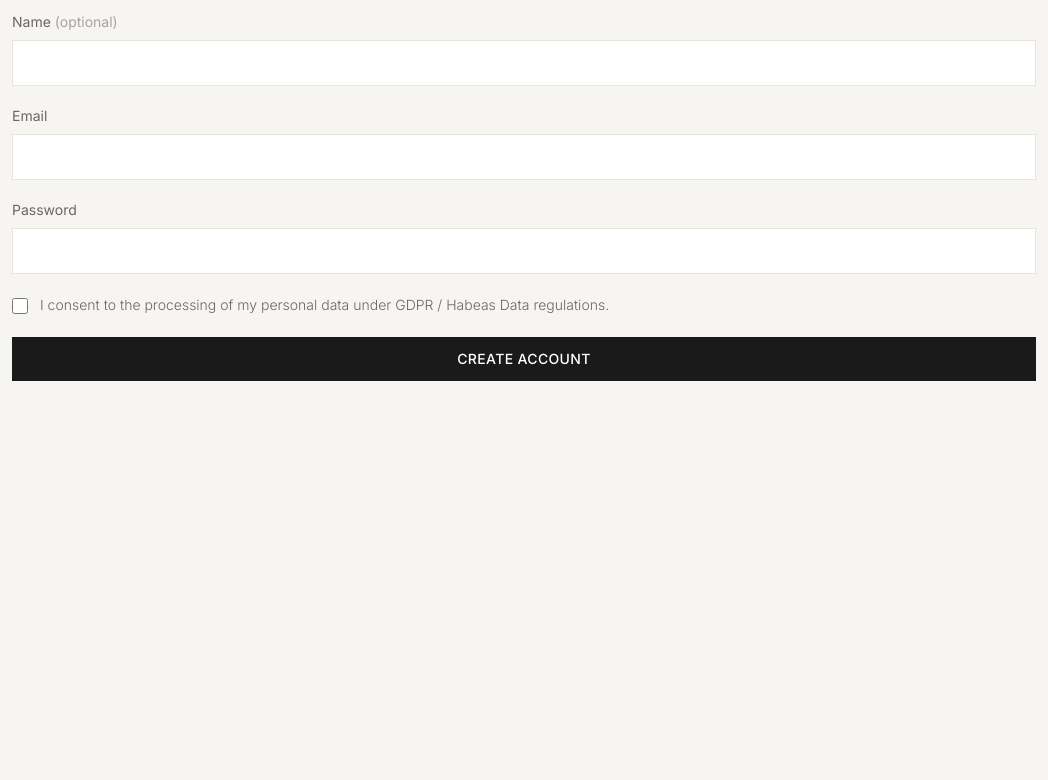
Test: EmailRegisterForm › submits valid registration
In the field labelled "Email": (524, 157) x1=12 y1=134 x2=1036 y2=180, type "user@chicmatrix.app"
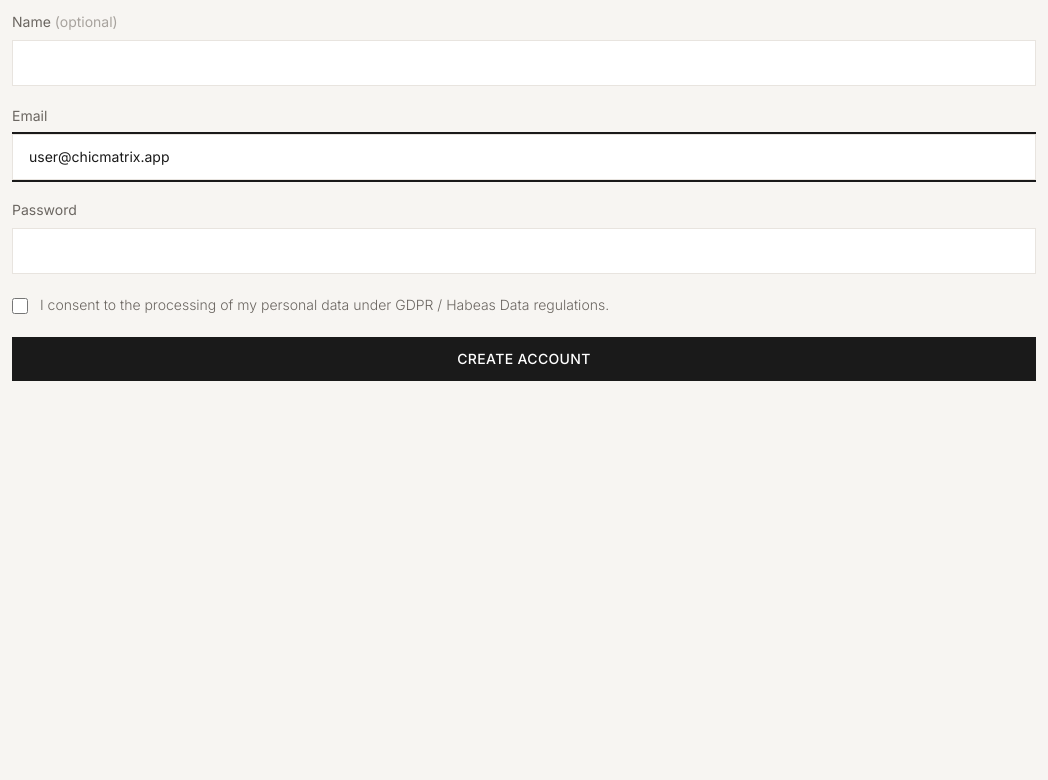
In the password field labelled "Password": (524, 251) x1=12 y1=228 x2=1036 y2=274, type "SecurePass123"
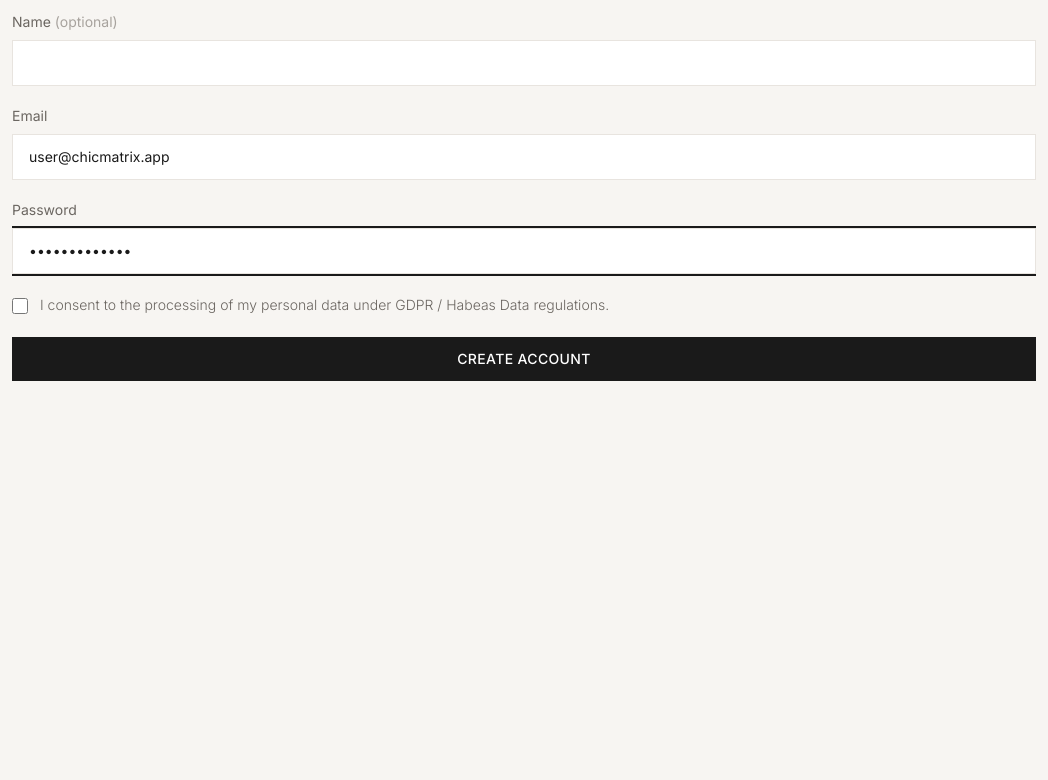
Click the checkbox: (20, 306) x1=12 y1=298 x2=28 y2=314
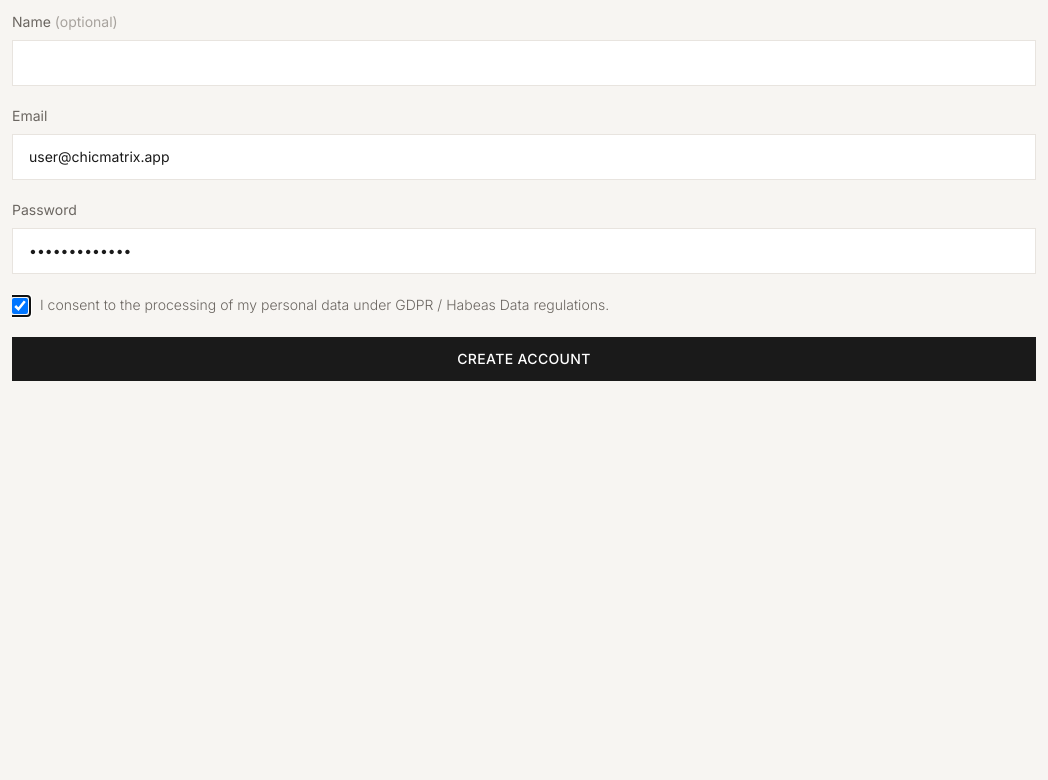
Click the button "Create account": (524, 359) x1=12 y1=337 x2=1036 y2=381
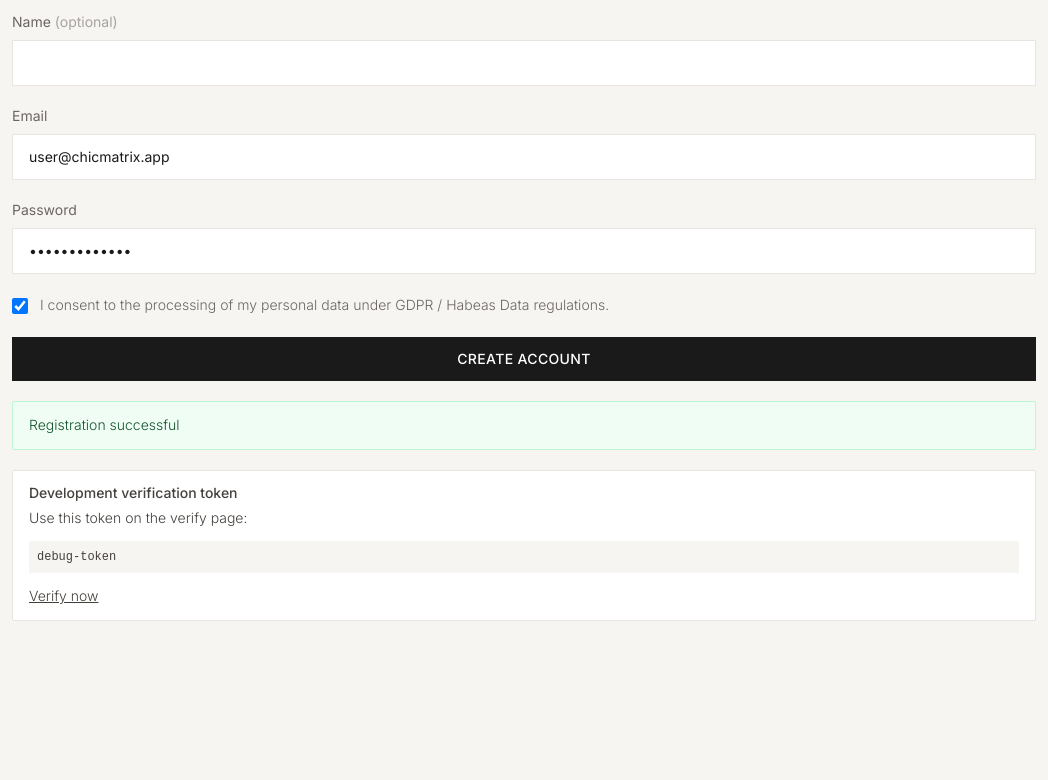
Check: the text "Registration successful" is shown, box x1=29 y1=416 x2=180 y2=433
Check: the text "debug-token" is shown, box x1=29 y1=541 x2=1019 y2=573
